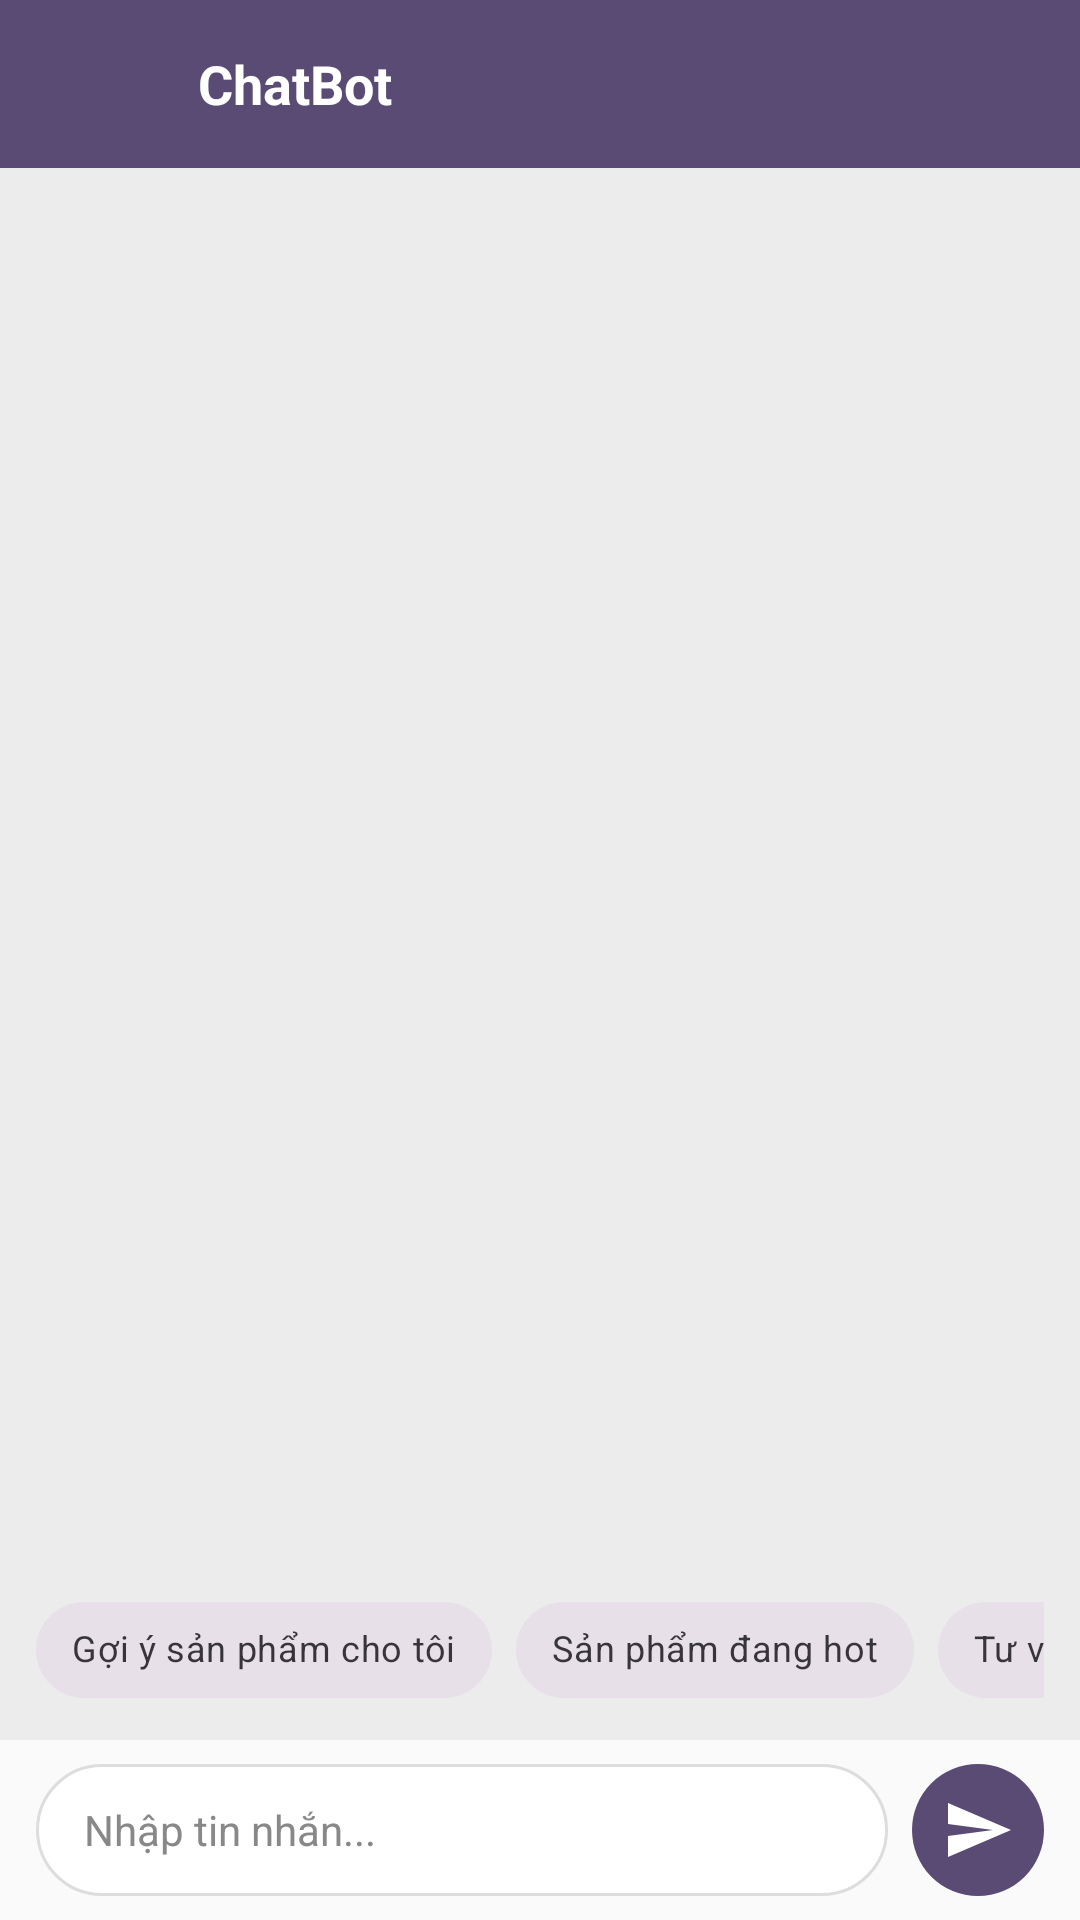

Icons on this 1080w x 1920h Android screen, each with its box as (x1, y1, x2, y2):
Gửi: (912, 1764, 1044, 1896)
